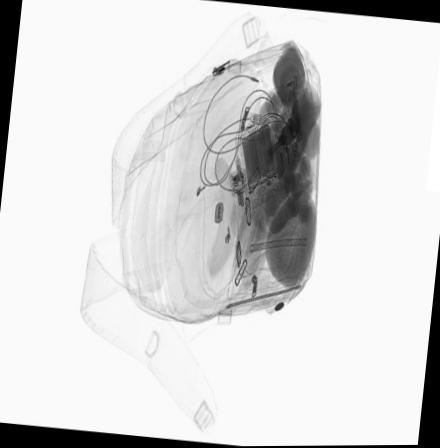Powerbank: (239, 117, 279, 211)
